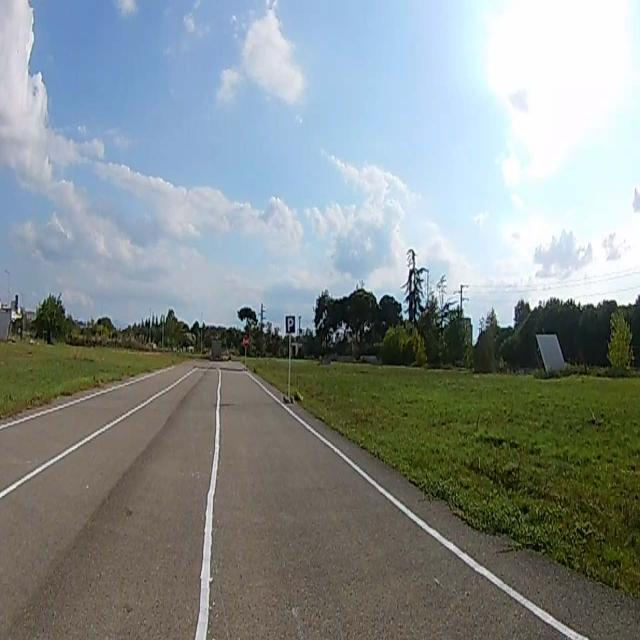park: (286, 317, 295, 334)
